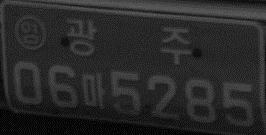0: (12, 61, 43, 105)
2: (145, 72, 179, 120)
5: (221, 81, 256, 128), (109, 70, 142, 117)
6: (47, 65, 78, 109)
8: (183, 75, 216, 123)
광주_D: (66, 16, 192, 64)
마: (80, 71, 107, 110)
영: (13, 14, 46, 51)
